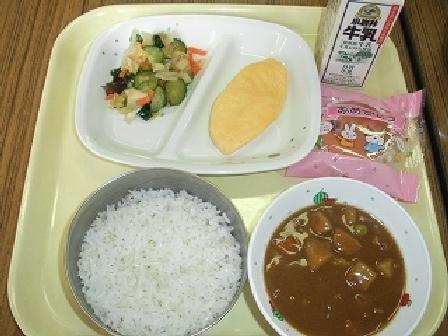Curry: (262, 191, 420, 333)
Milk: (309, 0, 415, 78)
Rice: (72, 174, 245, 334)
Salad: (95, 27, 196, 116)
egg product: (204, 57, 297, 159)
pastry: (309, 85, 423, 184)
